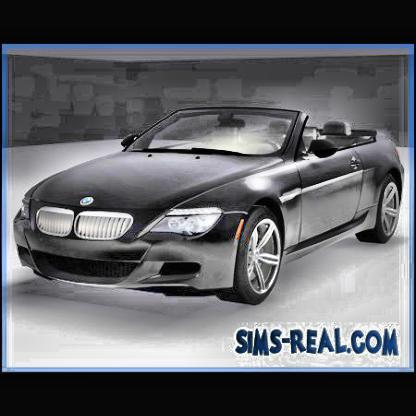BMW M6 Convertible 2010: (15, 110, 406, 308)
